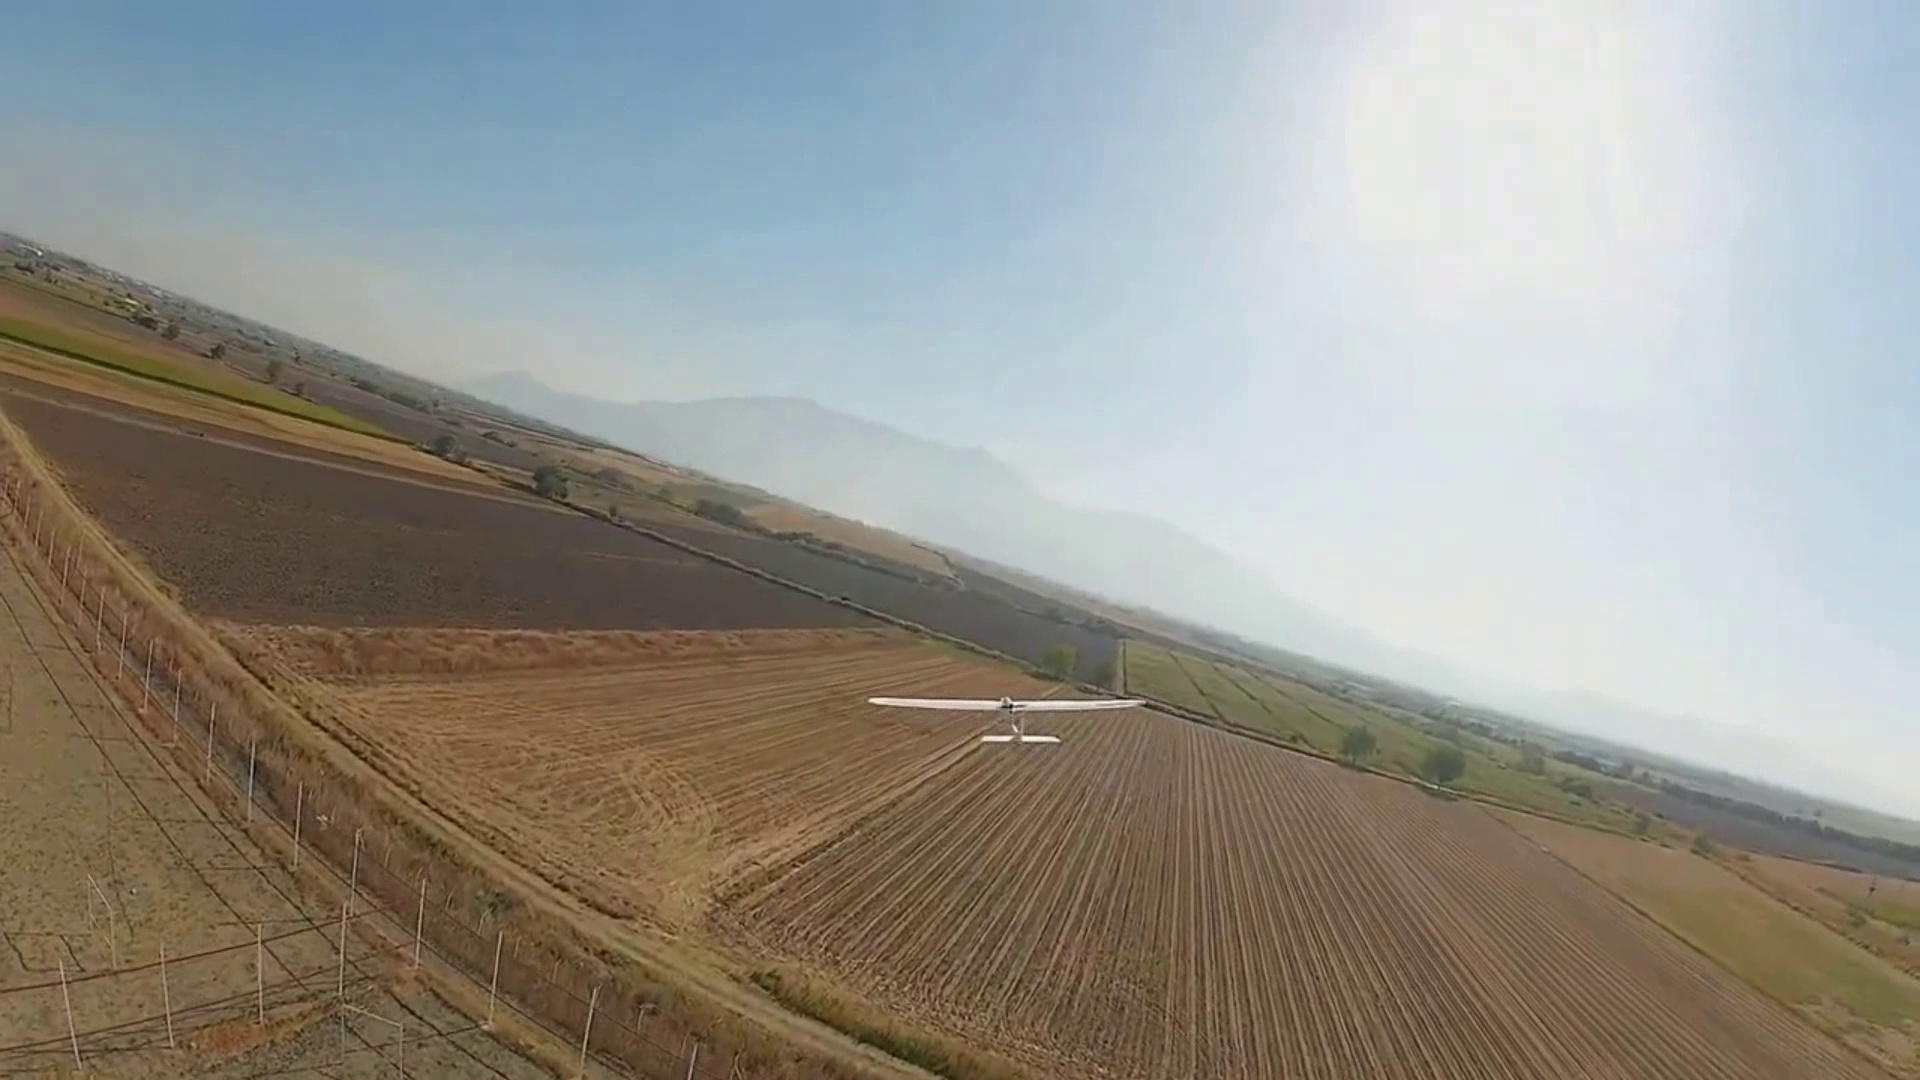airplane: (9, 262, 1920, 936)
